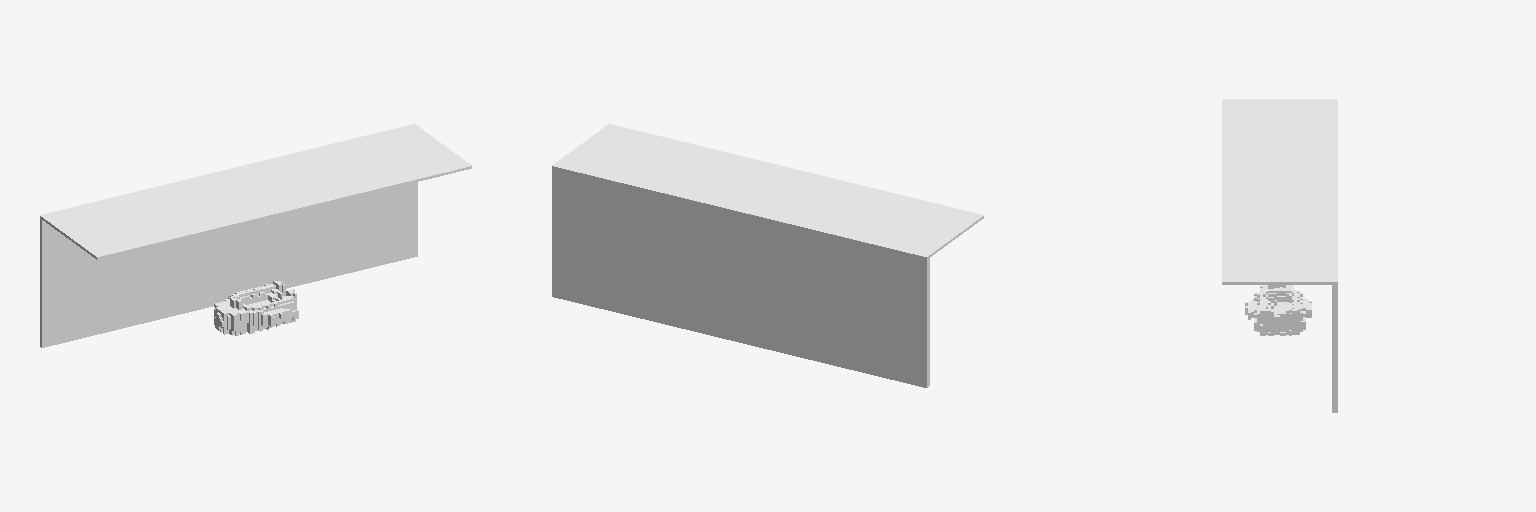
File: perdiste.obj
3 renders of one model, left to right at view 1: azimuth 30°, elevation 25°; view 2: azimuth 150°, elevation 25°; view 3: azimuth 270°, elevation 25°, orthographic.
Visible parts, largest first — view 1: object 1; view 2: object 1; view 3: object 1.
Part boxes in pixels (left/top/right/bottom): object 1: left=40, top=124, right=471, bottom=347; object 1: left=552, top=124, right=983, bottom=387; object 1: left=1222, top=99, right=1337, bottom=412.
Size of the model in its own units: 15 by 5 by 4.